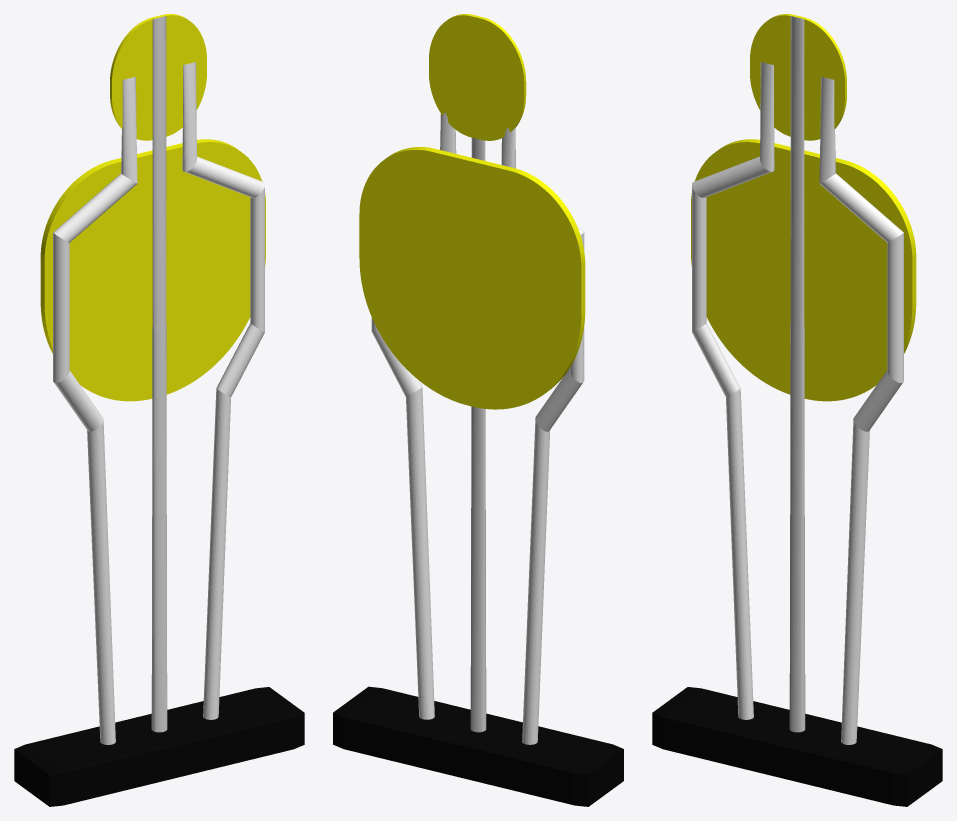
The model's file is wall.glb.
3 renders of one model, left to right at view 1: azimuth 30°, elevation 25°; view 2: azimuth 150°, elevation 25°; view 3: azimuth 330°, elevation 25°, orthographic.
Parts seen in each view (by area): view 1: Cube.001, Cylinder.004, Cube, Cylinder, Cube.002; view 2: Cube.001, Cube, Cylinder.004, Cube.002, Cylinder; view 3: Cube.001, Cylinder.004, Cube, Cylinder, Cube.002.
Part boxes in pixels (x1=…): Cube.001: x1=40, y1=139, x2=265, y2=401; Cylinder.004: x1=53, y1=62, x2=264, y2=744; Cube: x1=14, y1=687, x2=304, y2=806; Cylinder: x1=151, y1=16, x2=167, y2=732; Cube.002: x1=110, y1=14, x2=206, y2=140; Cube.001: x1=359, y1=147, x2=585, y2=409; Cube: x1=333, y1=686, x2=623, y2=806; Cylinder.004: x1=371, y1=112, x2=584, y2=744; Cube.002: x1=429, y1=14, x2=526, y2=140; Cylinder: x1=470, y1=137, x2=486, y2=732; Cube.001: x1=691, y1=139, x2=916, y2=401; Cylinder.004: x1=692, y1=62, x2=903, y2=744; Cube: x1=652, y1=687, x2=942, y2=806; Cylinder: x1=789, y1=16, x2=805, y2=732; Cube.002: x1=750, y1=14, x2=846, y2=140.
Size of the model in its own units: 0.75 by 2.1 by 0.2.
